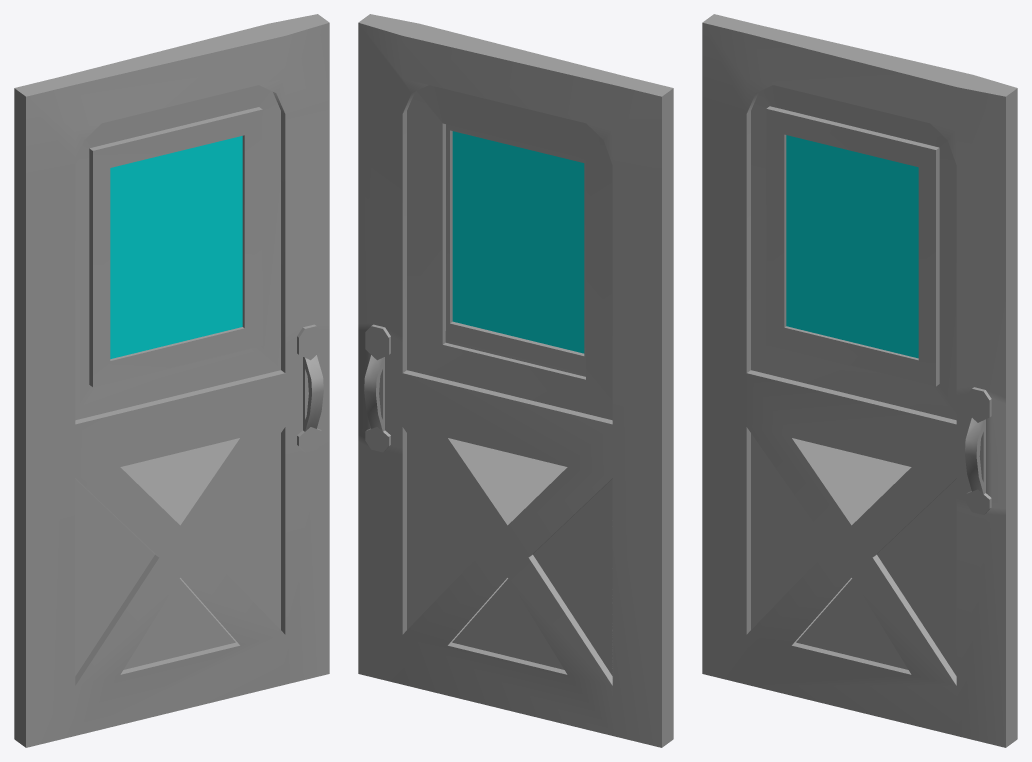
The model's file is Door_B.fbx.
3 views of the same model, side by side, from view 1: azimuth 30°, elevation 25°; view 2: azimuth 150°, elevation 25°; view 3: azimuth 330°, elevation 25° (orthographic).
Visible parts, largest first — view 1: DoorB; view 2: DoorB; view 3: DoorB.
Part boxes in pixels (x1=…): DoorB: x1=14, y1=14, x2=329, y2=747; DoorB: x1=358, y1=14, x2=673, y2=747; DoorB: x1=702, y1=14, x2=1017, y2=747.
Bounding box in the file's own units: 3 × 6.15 × 0.6038.
